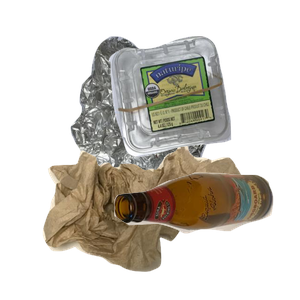glass: (111, 170, 300, 300)
metal: (68, 34, 300, 214)
plastic: (106, 34, 300, 183)
trash: (40, 138, 280, 300)
